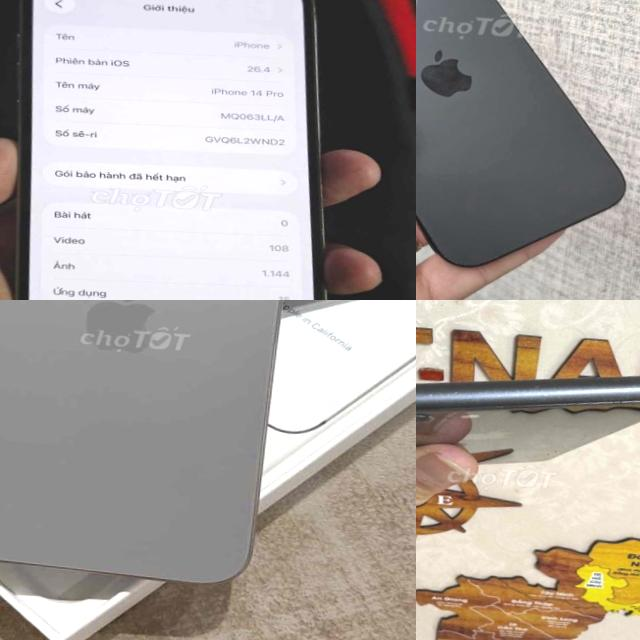gen_14: (0, 0, 368, 300)
gen_15: (0, 300, 311, 597), (416, 0, 640, 281)
gen_7_8: (416, 346, 640, 481)
scratch: (416, 357, 640, 441)
